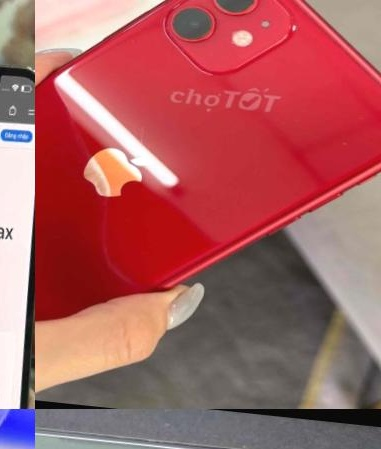scratch: (132, 431, 195, 449), (236, 443, 332, 449)
